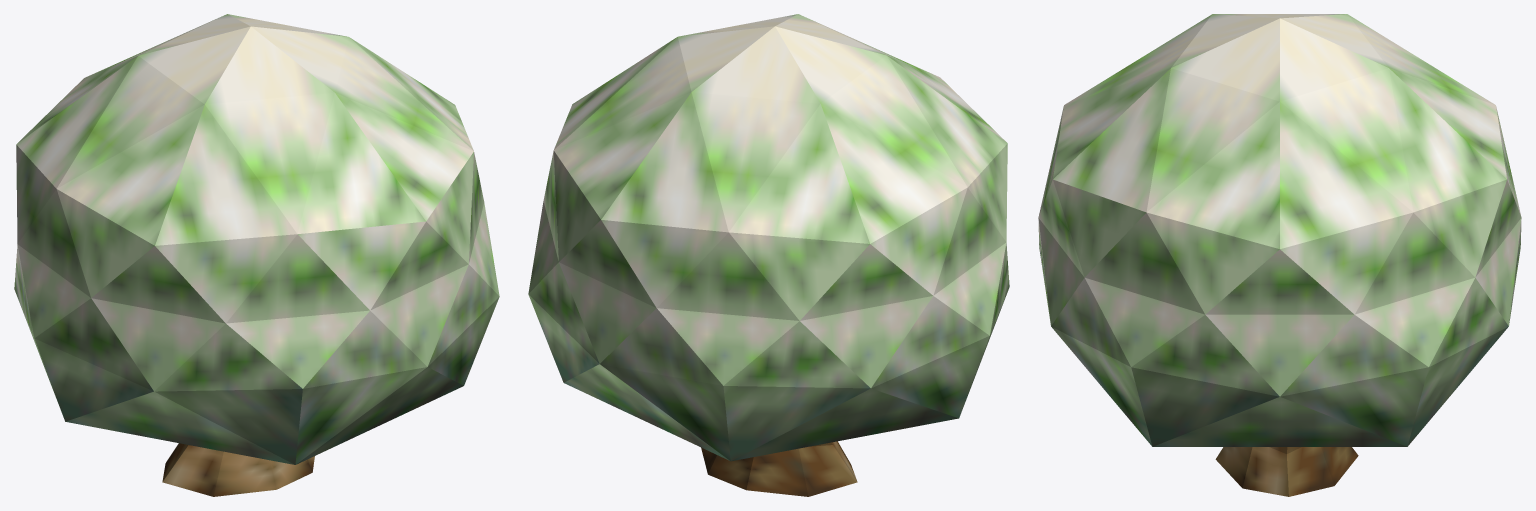
Rendered from Poly_Bush_03_Snow.obj.
The picture shows the model from 3 angles, left to right: view 1: azimuth 30°, elevation 25°; view 2: azimuth 150°, elevation 25°; view 3: azimuth 270°, elevation 25°; orthographic projection. The views are drawn at different scales.
Parts seen in each view (by area): view 1: Icosphere.001, Plane; view 2: Icosphere.001, Plane; view 3: Icosphere.001, Plane.
Boxes of the visible parts, left/top/right/bottom form: Icosphere.001: left=14, top=14, right=499, bottom=464; Plane: left=162, top=443, right=314, bottom=496; Icosphere.001: left=528, top=14, right=1009, bottom=461; Plane: left=701, top=441, right=857, bottom=496; Icosphere.001: left=1038, top=14, right=1521, bottom=446; Plane: left=1215, top=447, right=1358, bottom=496.
Bounding box in the file's own units: 1.03 × 1.03 × 1.01.
Materials: 1 (1 with a texture image).
